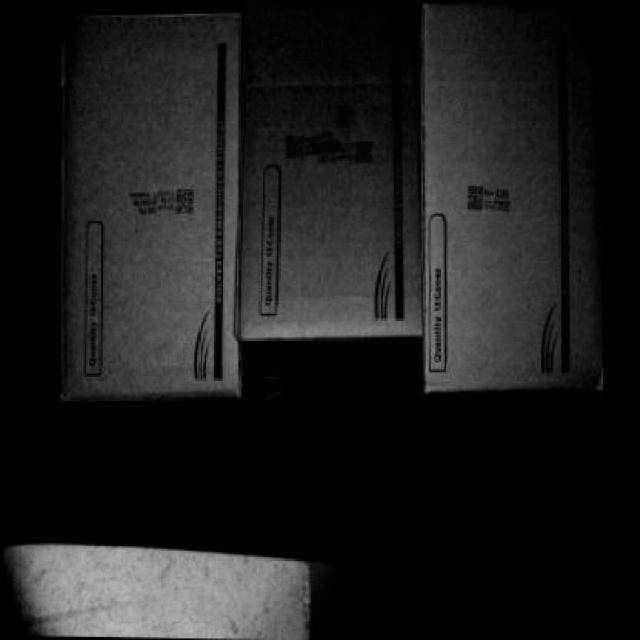cardboxes: (49, 14, 246, 400), (431, 12, 600, 382), (250, 12, 428, 337)
